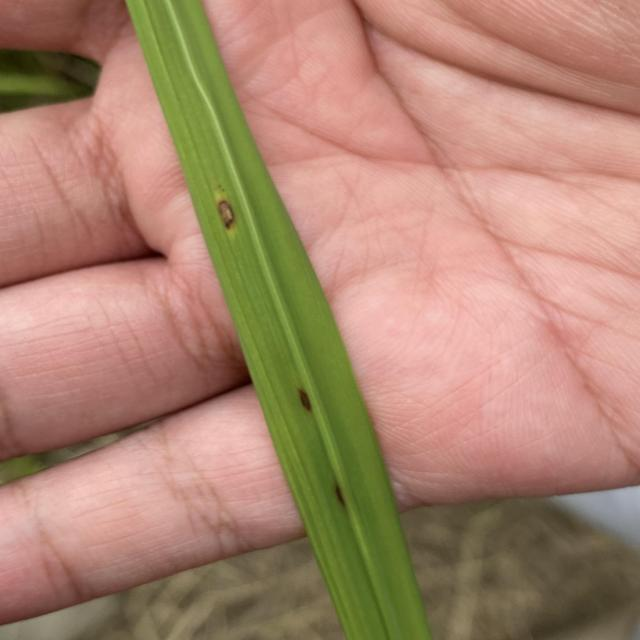Dom nau: (215, 195, 241, 236), (298, 386, 313, 414), (333, 479, 347, 508)
